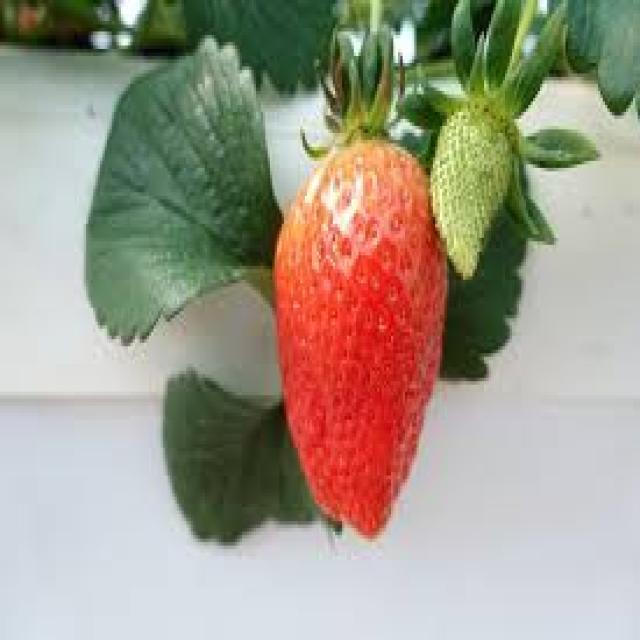ripe: (274, 131, 447, 541)
unripe: (428, 104, 512, 281)
